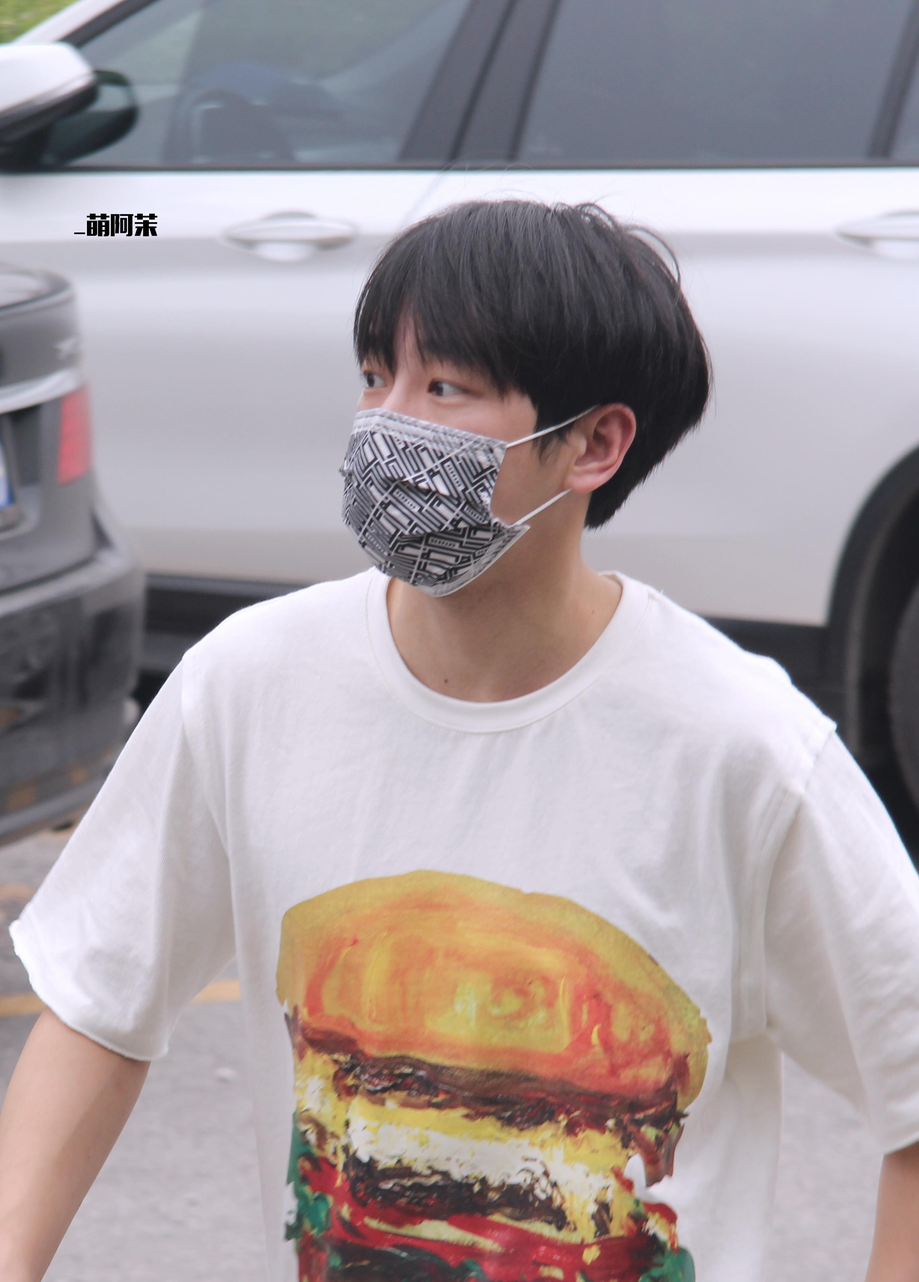OK: (334, 306, 608, 580)
